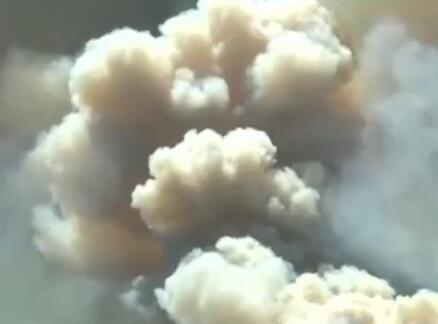yanwu: (1, 0, 438, 324)
